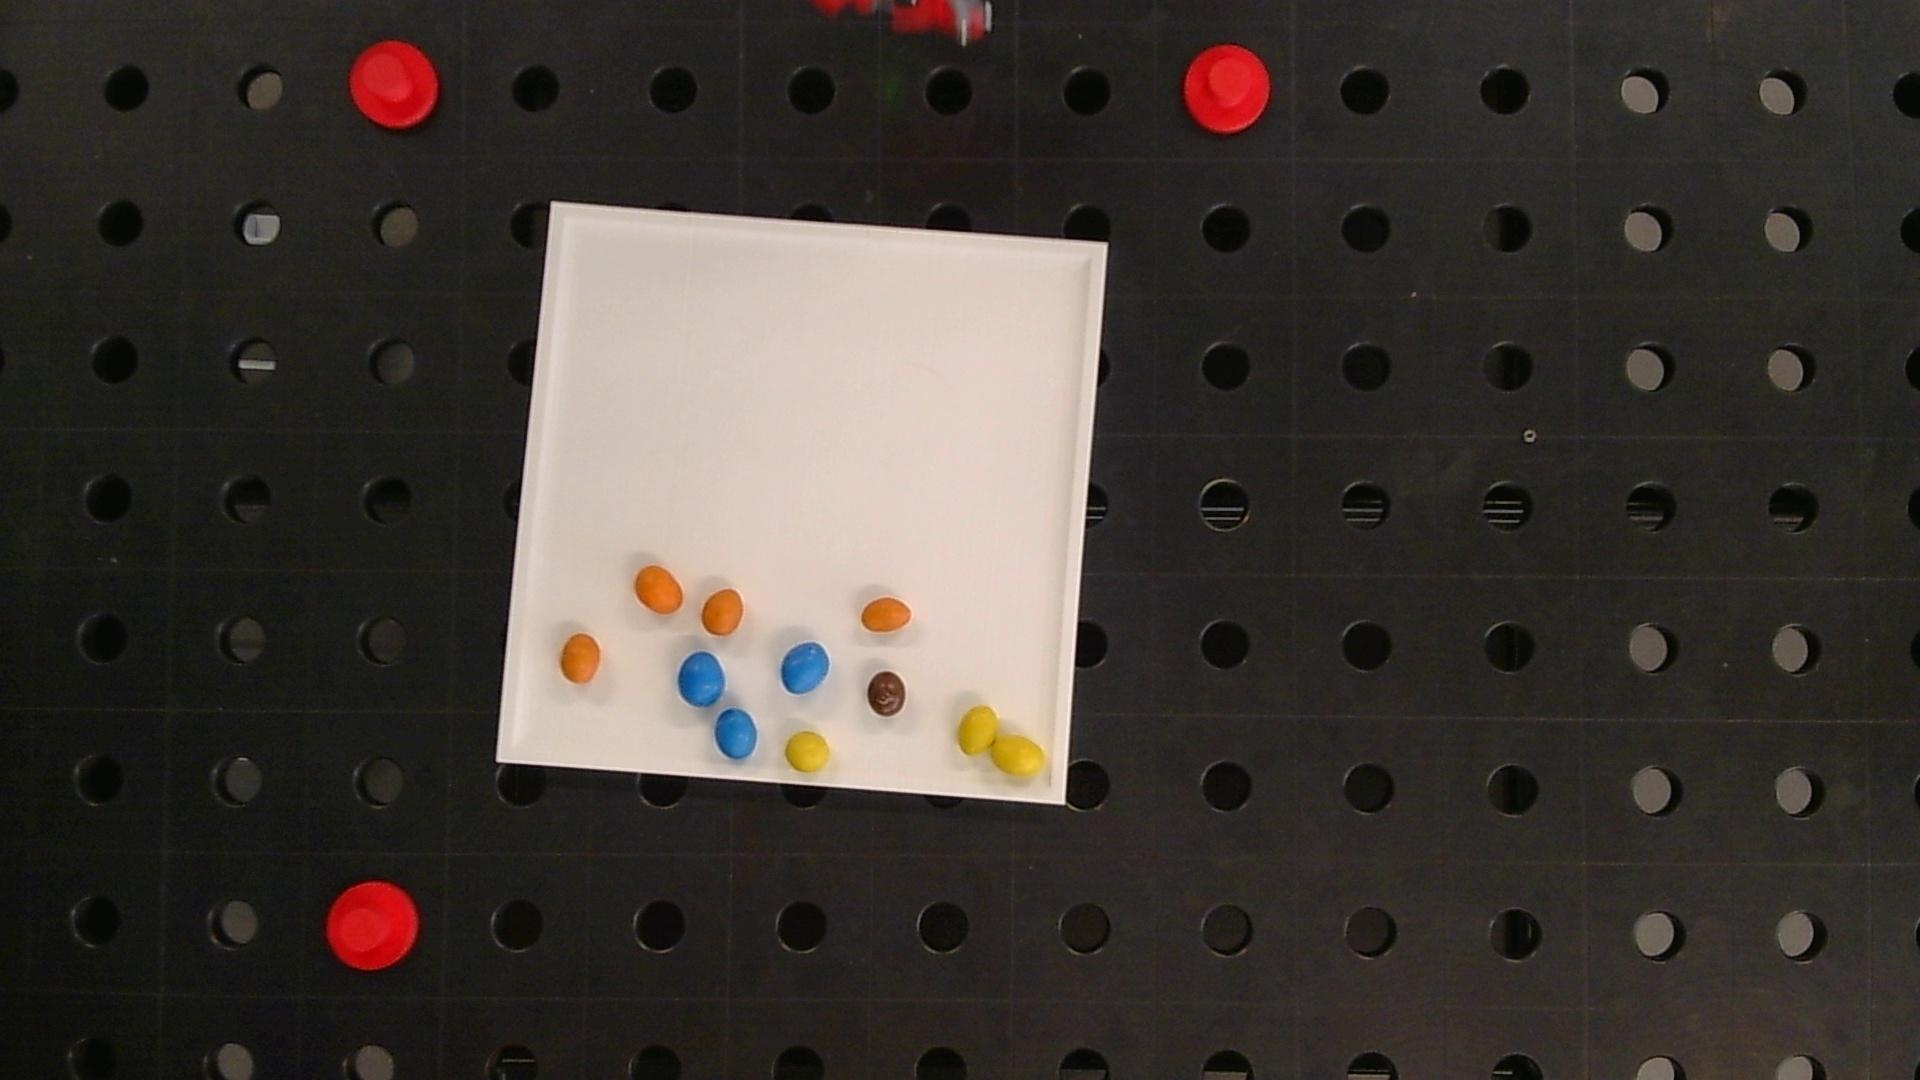blue: (678, 651, 724, 707), (781, 642, 829, 694), (715, 708, 758, 758)
brown: (868, 671, 906, 716)
orange: (634, 566, 683, 613), (560, 633, 600, 683), (702, 588, 744, 634), (860, 596, 913, 633)
yellow: (990, 736, 1046, 775), (957, 705, 998, 754), (786, 731, 829, 773)
